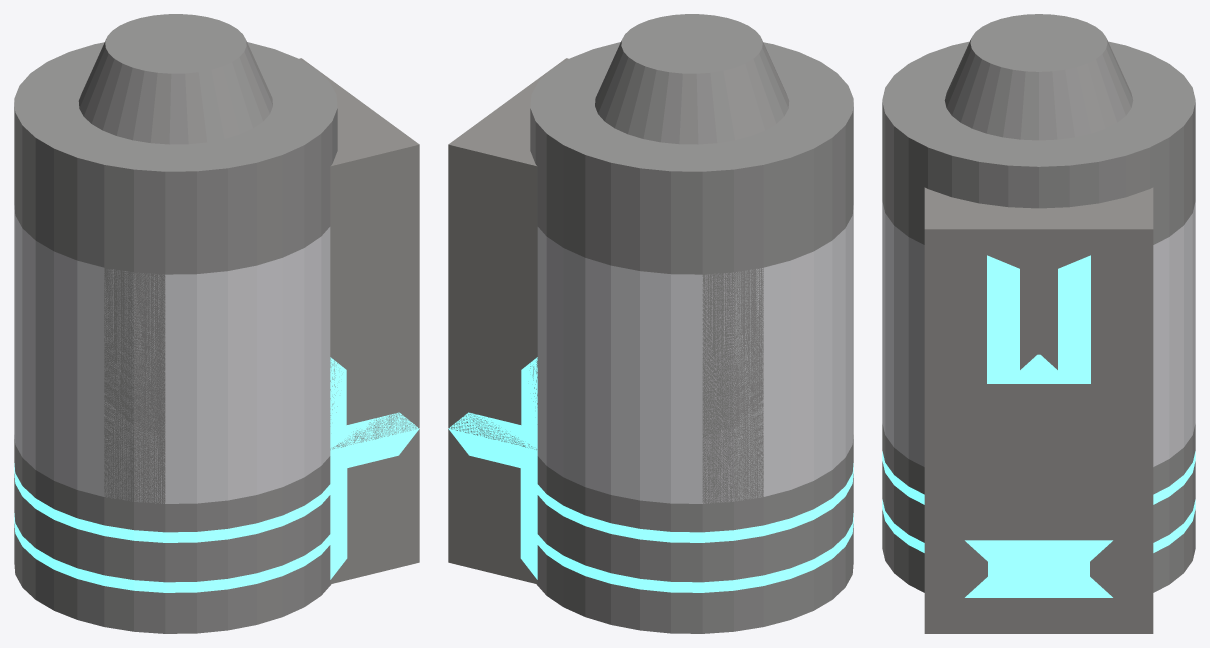
3 renders of one model, left to right at view 1: azimuth 30°, elevation 25°; view 2: azimuth 150°, elevation 25°; view 3: azimuth 270°, elevation 25°, orthographic. The views are drawn at different scales.
Visible parts, largest first — view 1: 円柱; view 2: 円柱; view 3: 円柱.
Part boxes in pixels (x1=…): 円柱: x1=14, y1=14, x2=419, y2=633; 円柱: x1=448, y1=14, x2=853, y2=633; 円柱: x1=882, y1=14, x2=1195, y2=633.
Size of the model in its own units: 697 by 1069 by 602.
